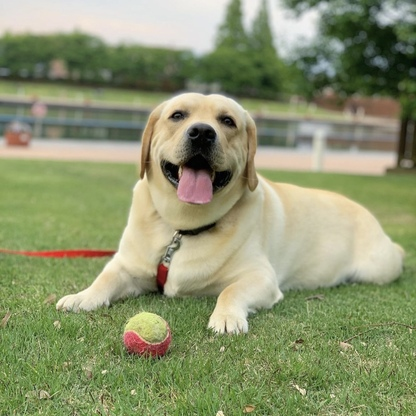labrado: (53, 88, 408, 339)
